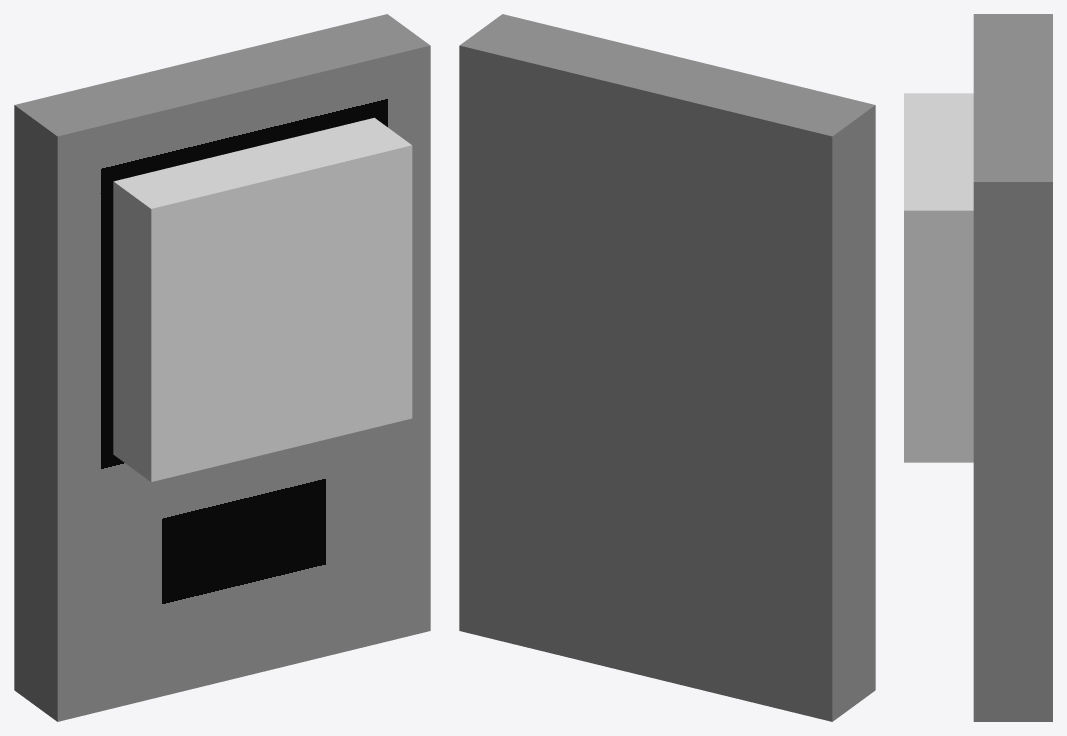
The model's file is button_01.glb.
The picture shows the model from 3 angles, left to right: view 1: azimuth 30°, elevation 25°; view 2: azimuth 150°, elevation 25°; view 3: azimuth 270°, elevation 25°; orthographic projection. The views are drawn at different scales.
Visible parts, largest first — view 1: Base, Cube; view 2: Base; view 3: Base, Cube.
Boxes of the visible parts, x1,y1,x2,y2 form: Base: (14,14,430,721); Cube: (113,117,412,481); Base: (459,14,875,721); Base: (973,14,1052,721); Cube: (904,93,973,462).
Size of the model in its own units: 0.5 by 0.75 by 0.1875.
1 material, 1 textured.
